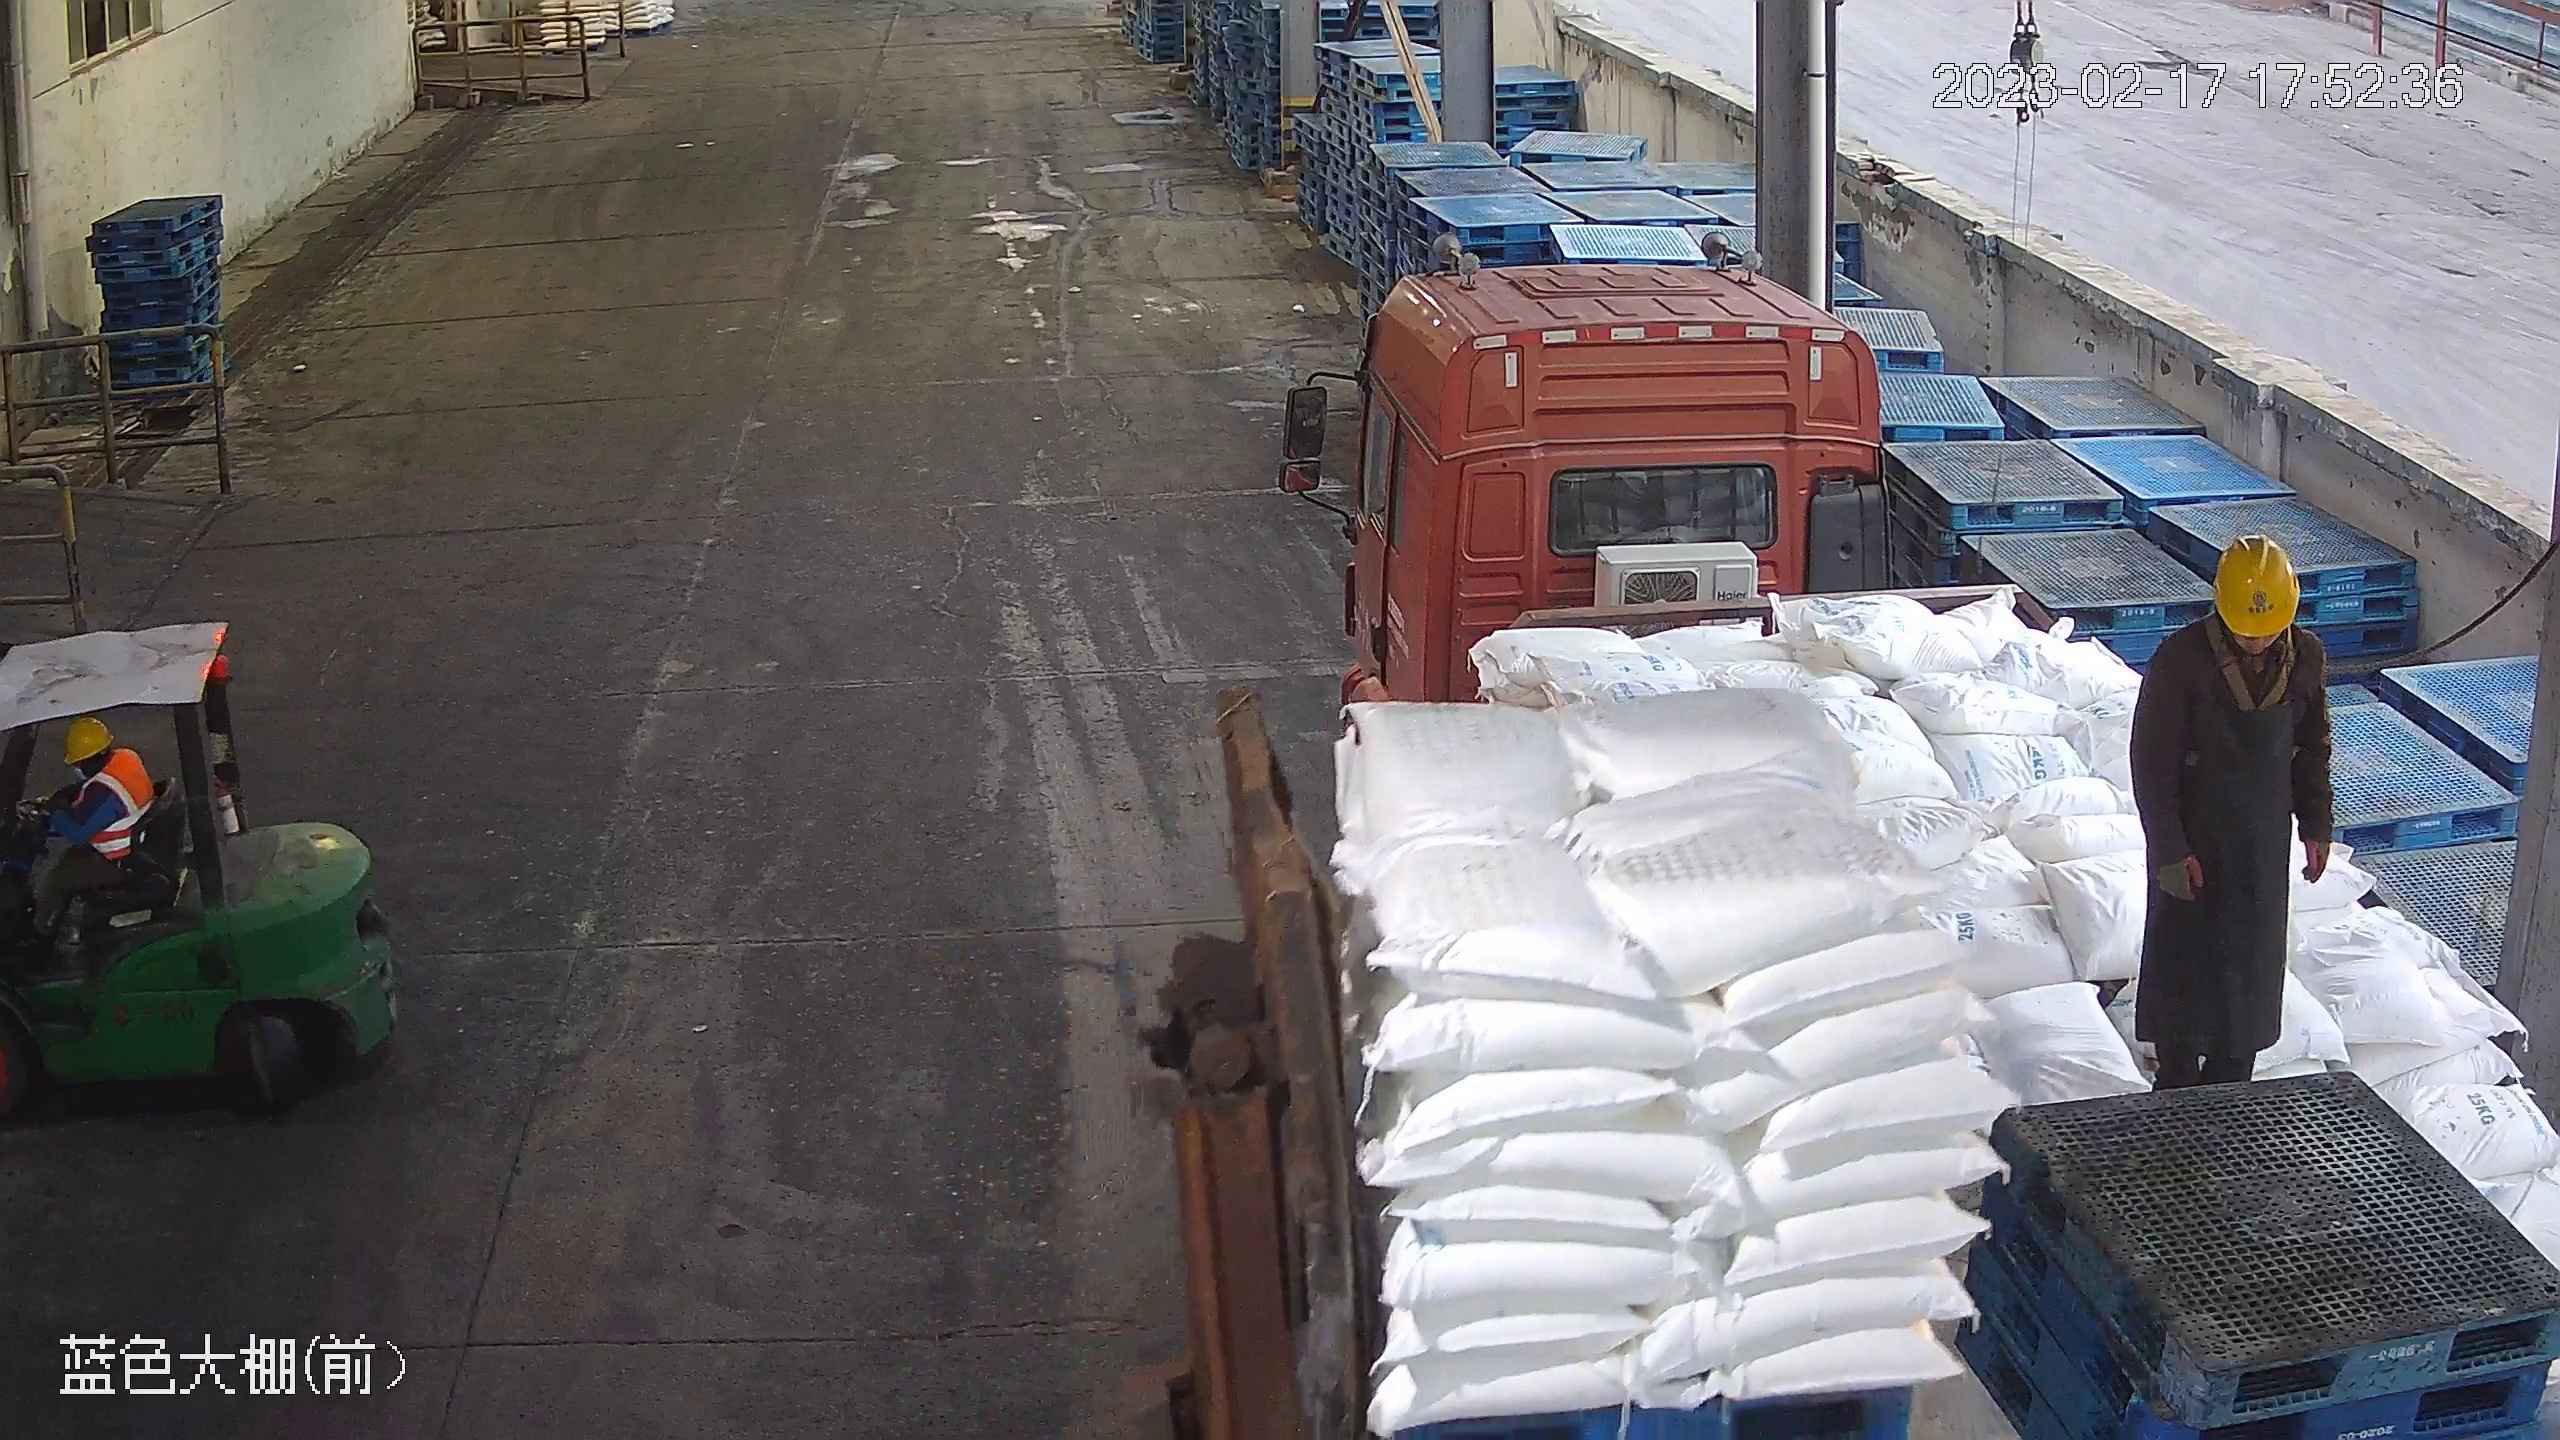belt: (2201, 619, 2294, 715)
head: (2147, 530, 2325, 696), (54, 711, 149, 813)
helmet: (2210, 532, 2300, 636), (60, 712, 113, 767)
people: (2123, 530, 2335, 1088), (3, 710, 159, 949)
truck: (1272, 233, 2557, 1440)
